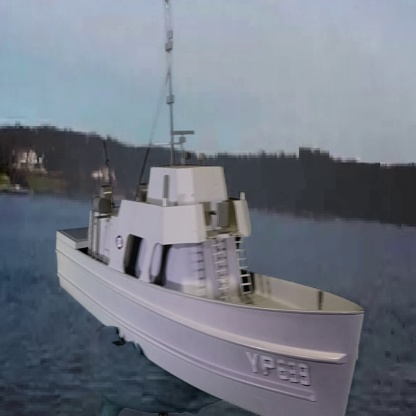YP689: (52, 0, 364, 416)
